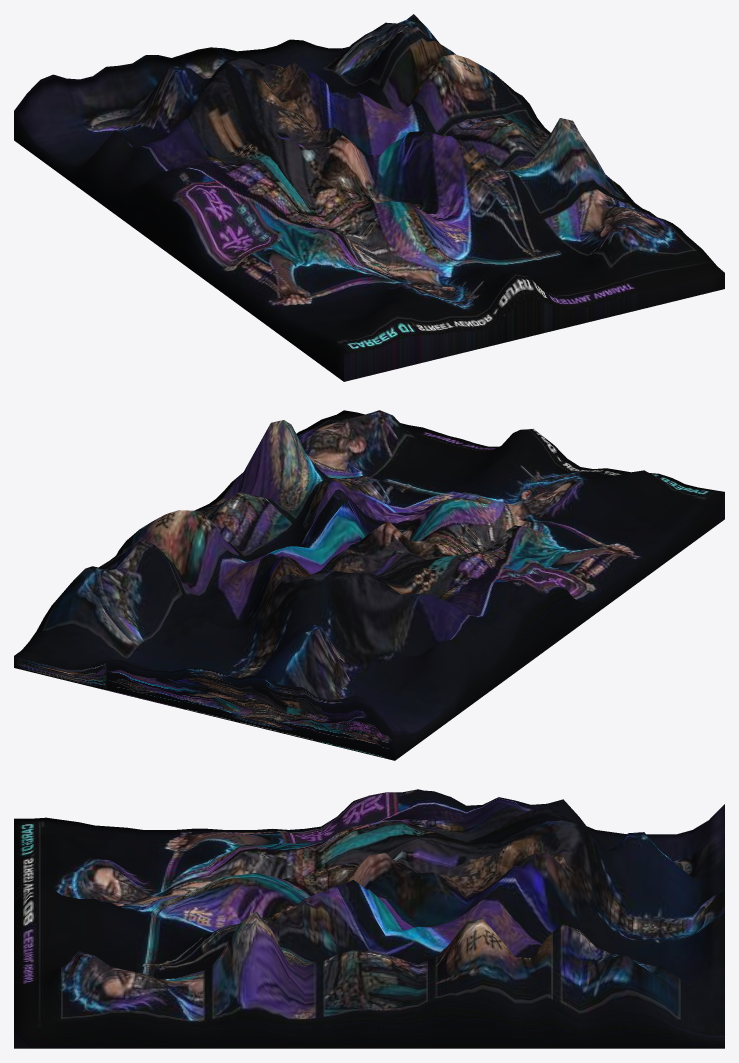
File: CAREER_01_Outfit_08_Festival.glb
The picture shows the model from 3 angles, top to bottom: view 1: azimuth 30°, elevation 25°; view 2: azimuth 150°, elevation 25°; view 3: azimuth 270°, elevation 25°; orthographic projection. The views are drawn at different scales.
Visible parts, largest first — view 1: CAREER_01_Outfit_08_Festival; view 2: CAREER_01_Outfit_08_Festival; view 3: CAREER_01_Outfit_08_Festival.
Boxes of the visible parts, x1,y1,x2,y2 form: CAREER_01_Outfit_08_Festival: [14, 14, 724, 381]; CAREER_01_Outfit_08_Festival: [14, 410, 724, 760]; CAREER_01_Outfit_08_Festival: [14, 789, 724, 1048].
Bounding box in the file's own units: 2 × 0.51 × 3.
1 material, 1 textured.
